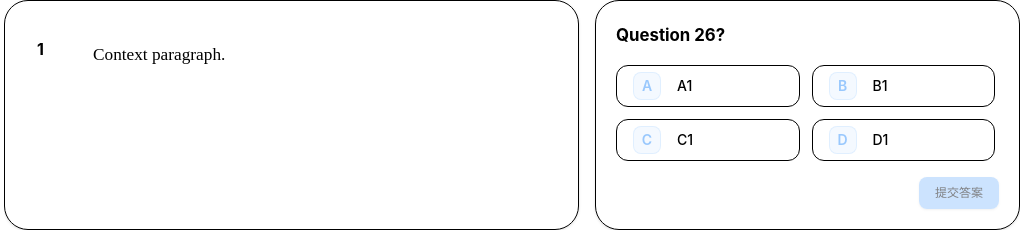
ChoiceQuestionFocusTemplate › keeps submit disabled until an option is selected
The image size is (1024, 247).
Expected: the button "提交答案" is disabled, [919,177,999,209]
Click the button named "AA1": (708, 86) [616,65,800,107]
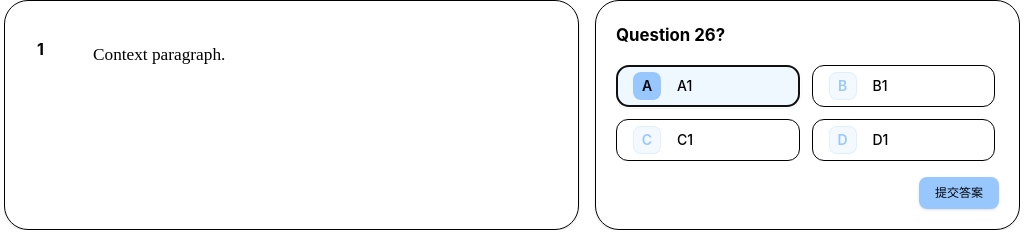
Expected: the button "提交答案" is enabled, [919,177,999,209]
